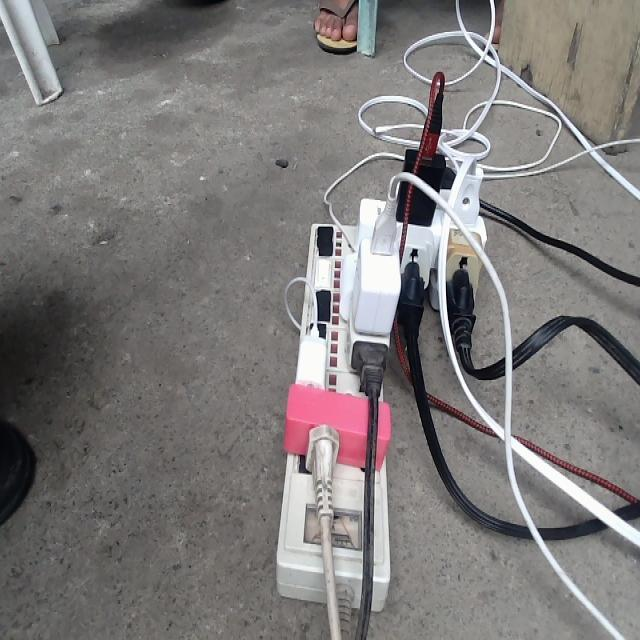-: (273, 133, 487, 607)
